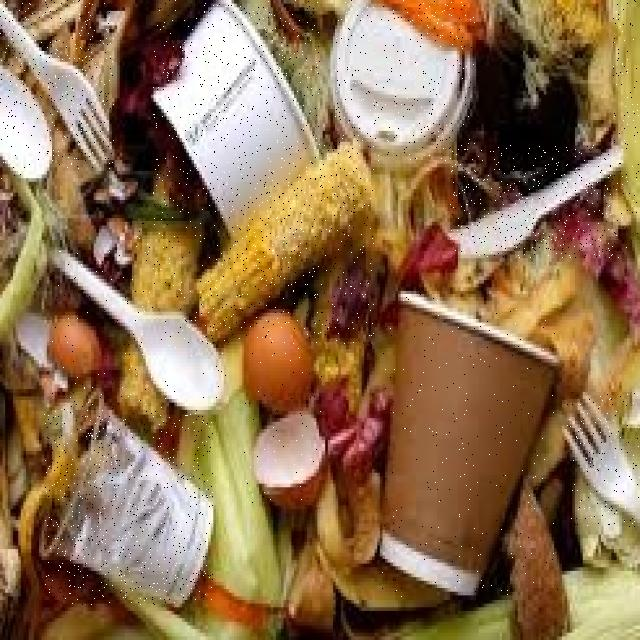biowaste: (184, 146, 374, 344), (244, 313, 324, 507), (132, 222, 205, 312), (613, 0, 639, 237)
paper: (383, 294, 559, 597), (154, 0, 320, 230)
plastic: (45, 411, 213, 605), (52, 251, 226, 412), (335, 0, 475, 161), (450, 146, 627, 258), (0, 0, 114, 169), (567, 393, 640, 530), (0, 60, 52, 180)
